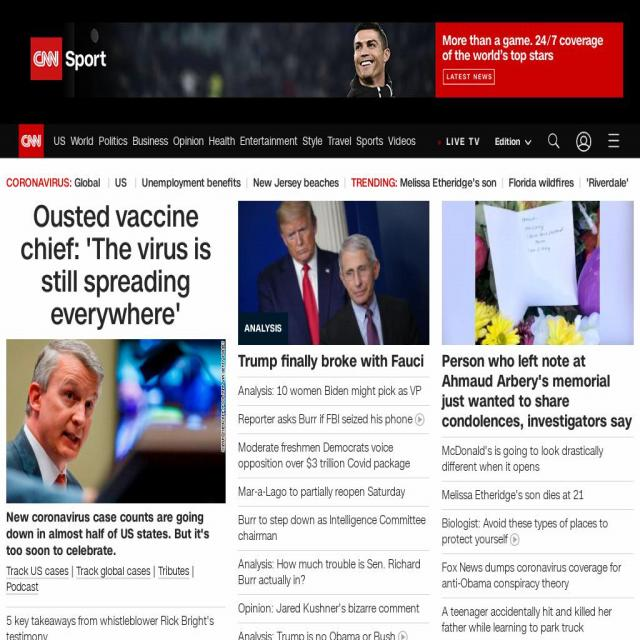navigation-links: (45, 128, 539, 155)
options: (602, 130, 628, 153)
search: (545, 132, 564, 153)
